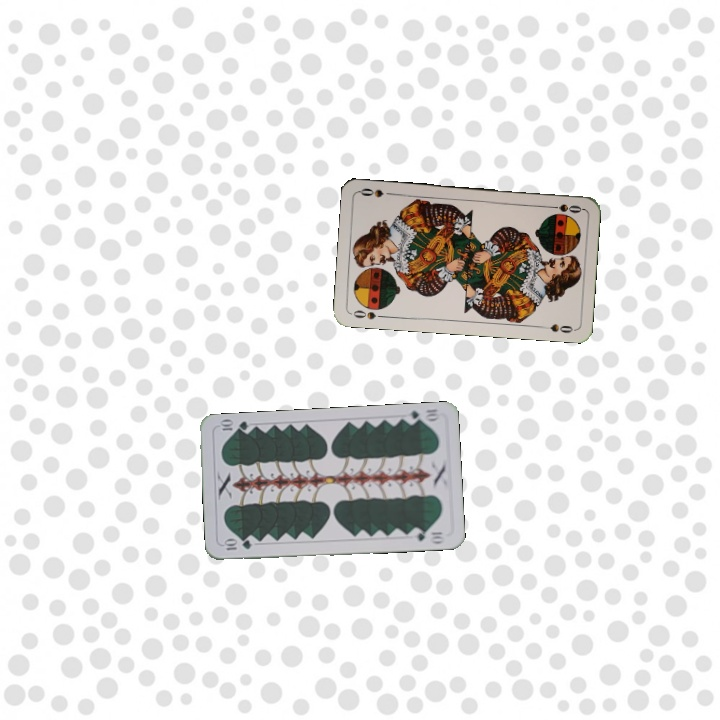G10: (402, 405, 442, 426), (220, 536, 254, 553)
SO: (544, 200, 584, 216), (349, 306, 388, 322)
